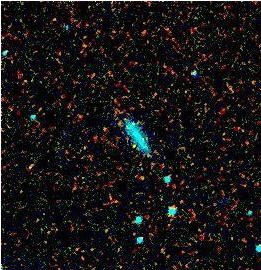star: (117, 131, 147, 161)
